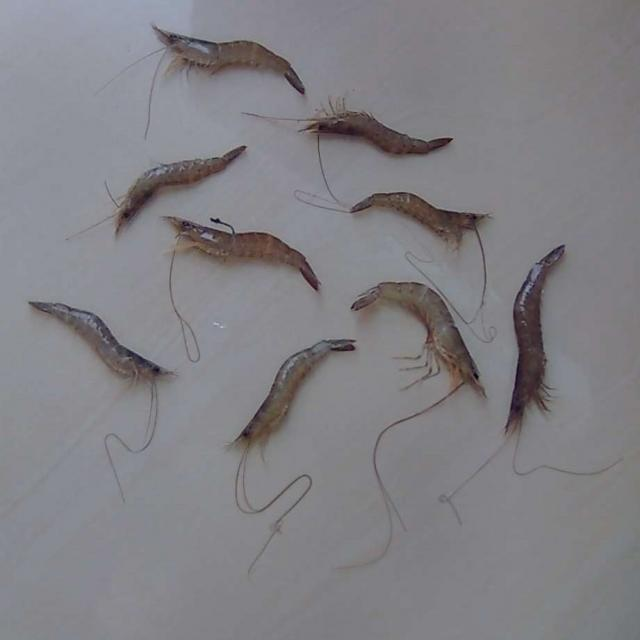shrimp: (352, 282, 486, 396), (229, 340, 355, 448), (115, 146, 247, 235), (165, 217, 320, 290), (506, 245, 565, 434), (28, 303, 172, 379), (151, 23, 304, 93), (350, 192, 489, 243), (304, 109, 453, 153)
